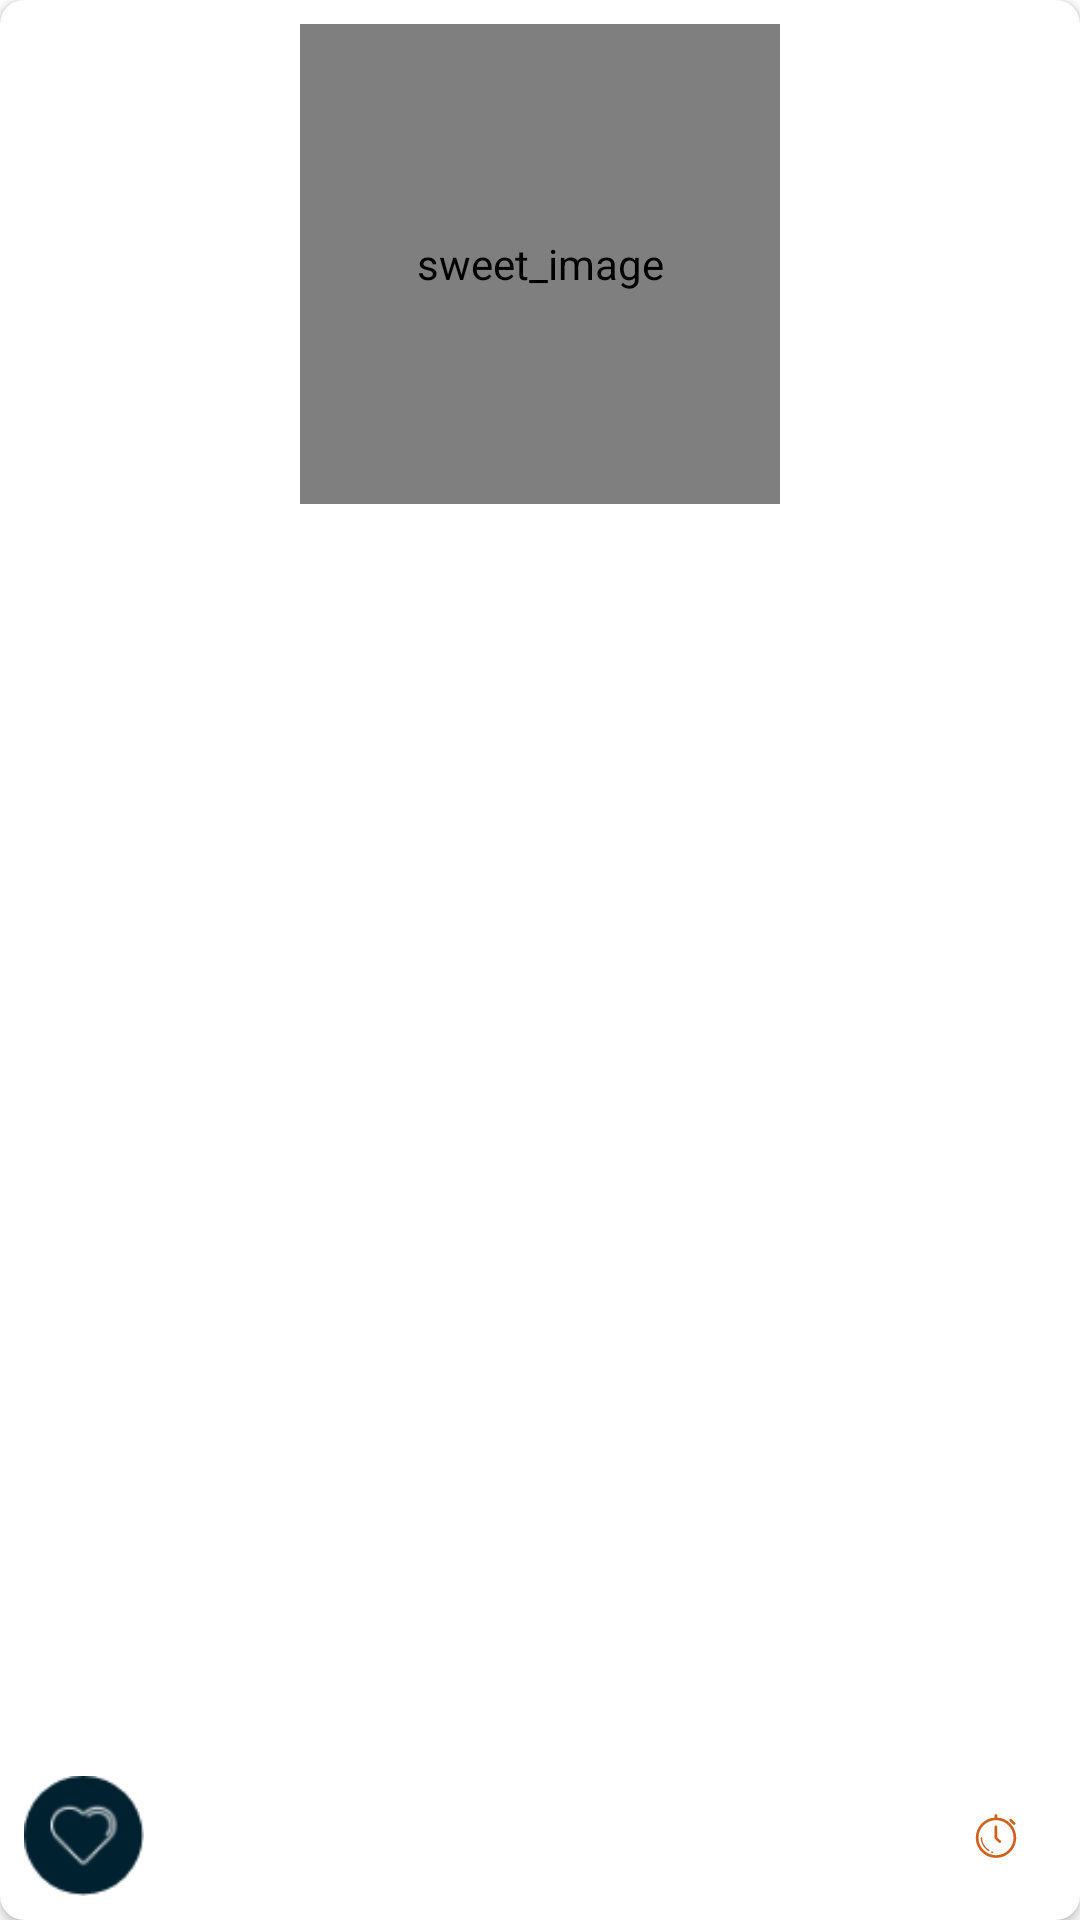

Named icons in this screenshot (1080px×1920px) and their bounding boxes, (x1, y1, x2, y2):
timer: (975, 1814, 1017, 1858)
